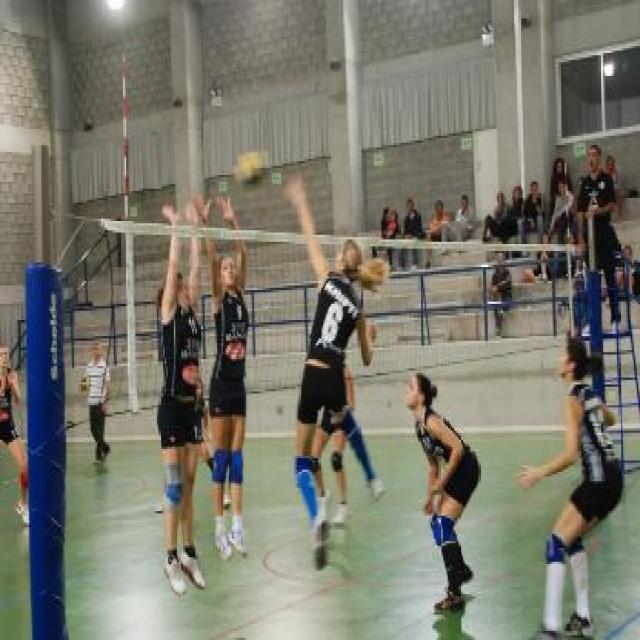volleyball: (235, 152, 272, 190)
